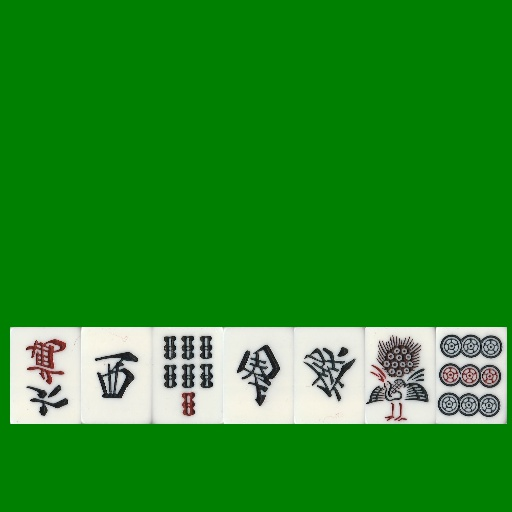1s: (365, 327, 436, 424)
6m: (10, 327, 81, 424)
7s: (152, 327, 223, 424)
9p: (436, 327, 507, 424)
hatsu: (294, 327, 365, 424)
south: (223, 327, 294, 424)
west: (81, 327, 152, 424)
